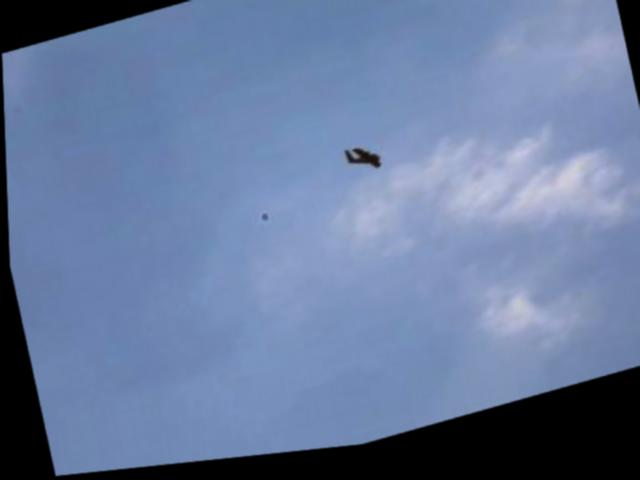uav: (341, 145, 381, 185)
